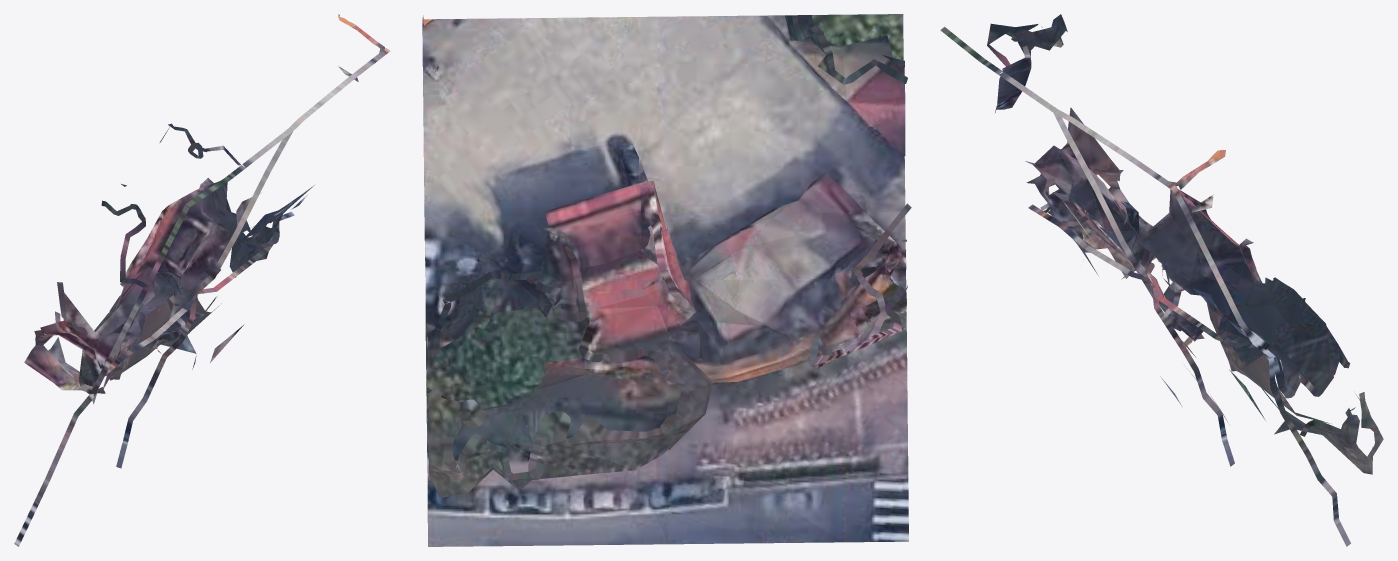
3 renders of one model, left to right at view 1: azimuth 30°, elevation 25°; view 2: azimuth 150°, elevation 25°; view 3: azimuth 270°, elevation 25°, orthographic. The views are drawn at different scales.
Bounding box in the file's own units: 38.18 × 37.49 × 34.59.
2 materials, 2 textured.
